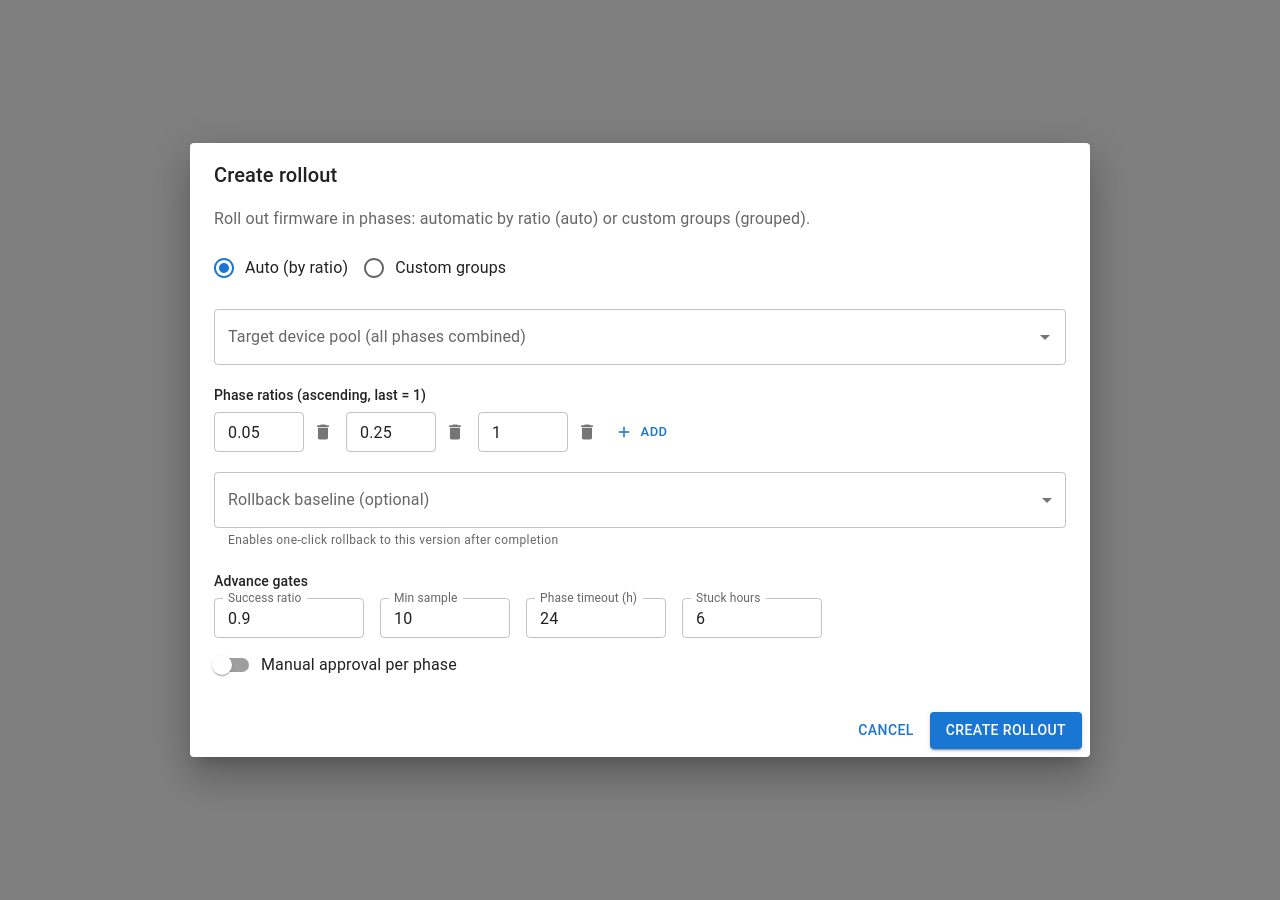
RolloutCreateDialog validation › grouped strategy: groups can be removed (first one stays)
Click the radio button labelled "Custom groups": (434,268) [362, 256, 506, 280]
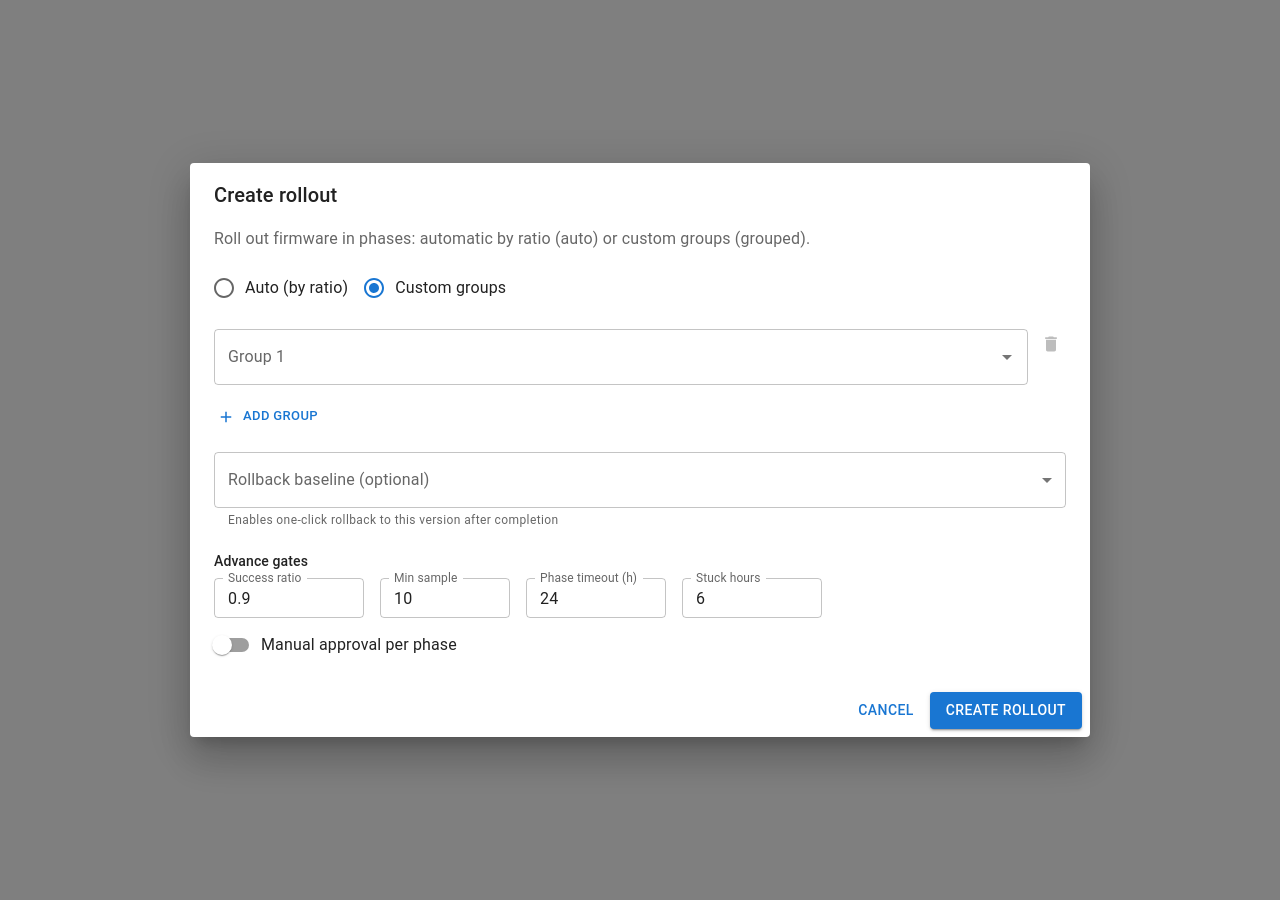
Expected: the number of buttons named "Delete group" is 1, [1036, 330, 1066, 360]
Expected: the button named "Delete group" is disabled, [1036, 330, 1066, 360]
Click the button "Add group": (268,417) [214, 402, 323, 432]
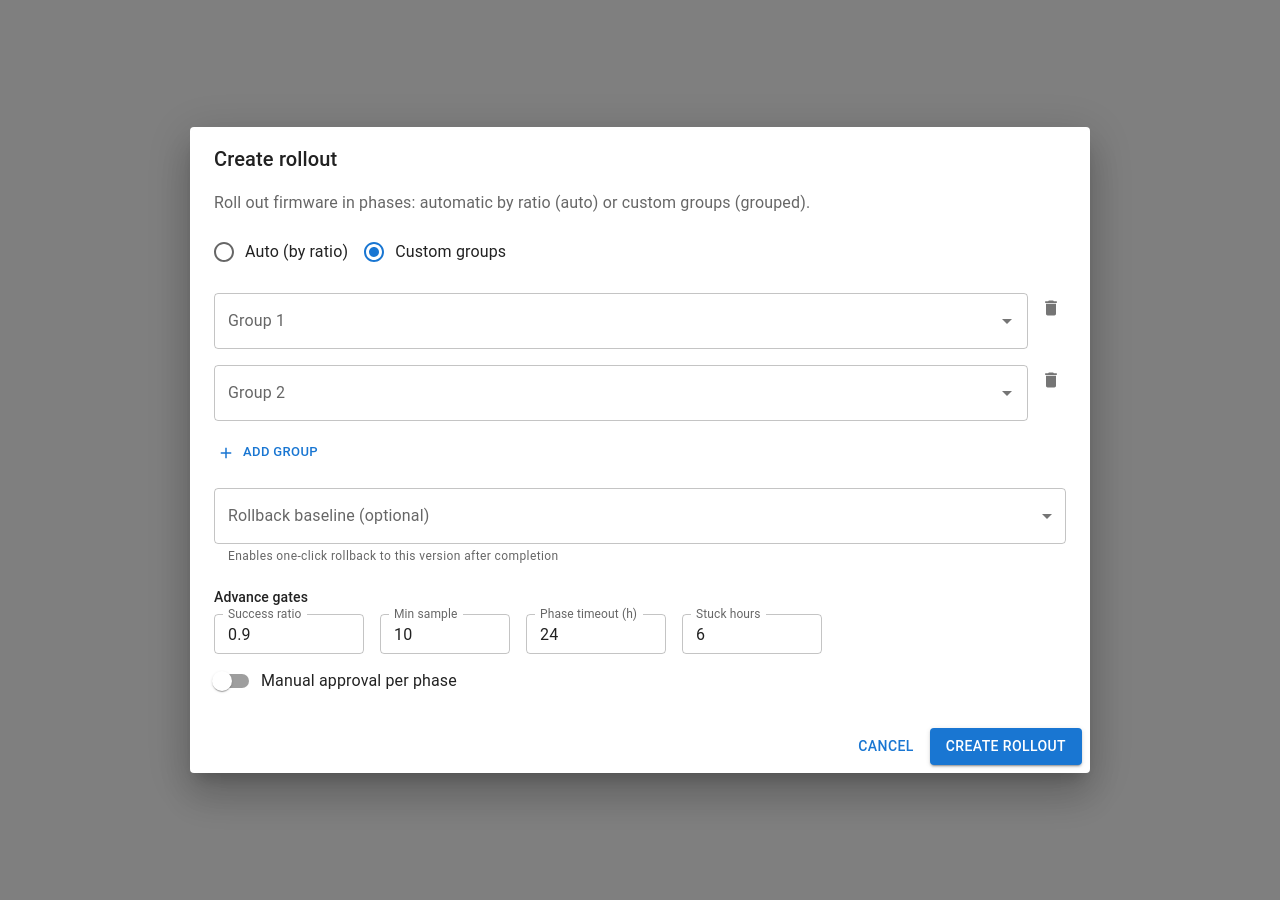
Expected: the number of buttons named "Delete group" is 2
Click the button named "Delete group" in the row of "Group 1": (1051,308) [1036, 294, 1066, 324]
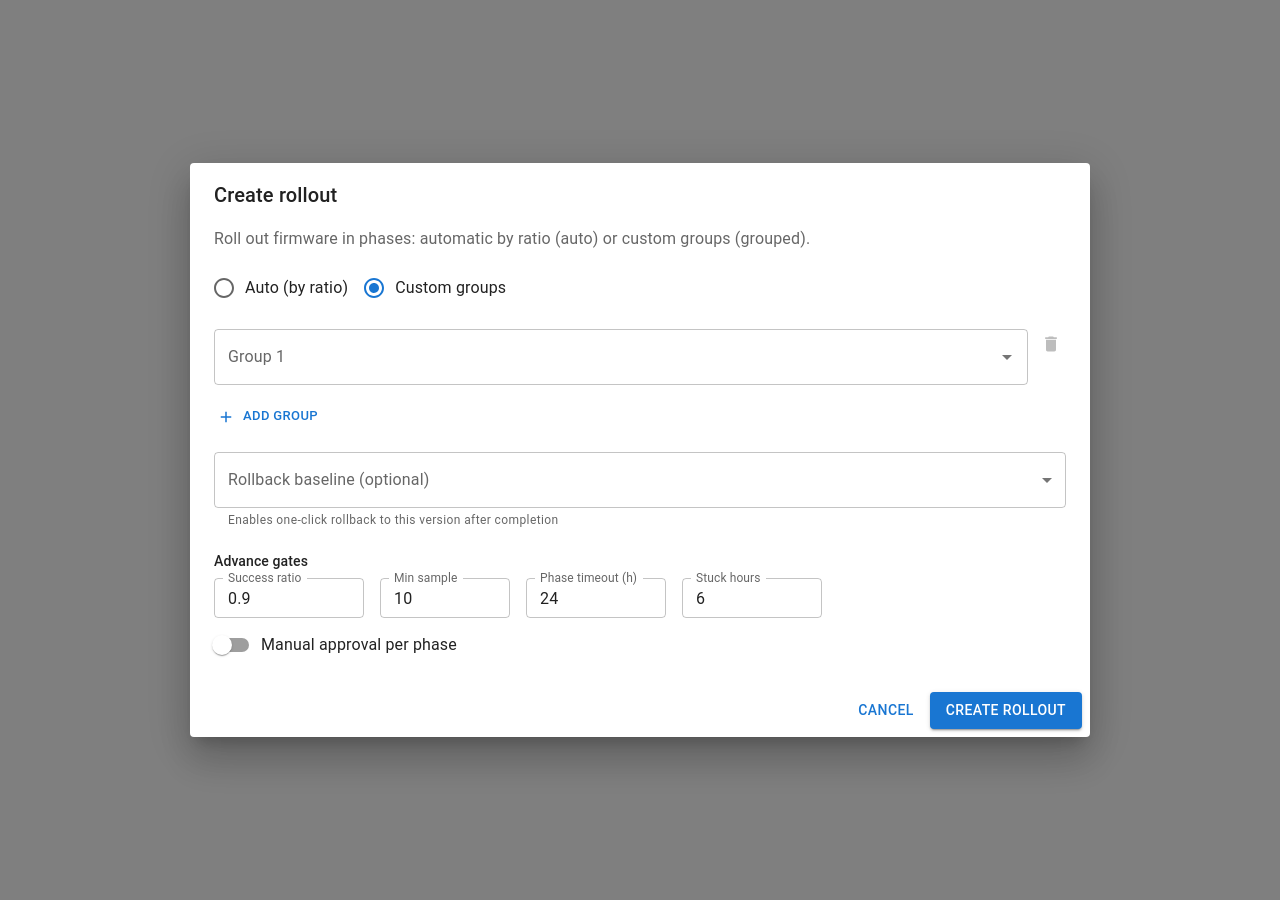
Expected: the number of buttons named "Delete group" is 1, [1036, 330, 1066, 360]
